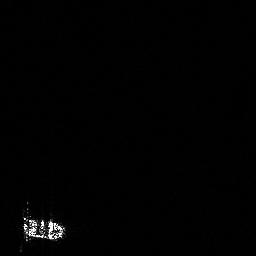ship: (18, 212, 70, 244)
